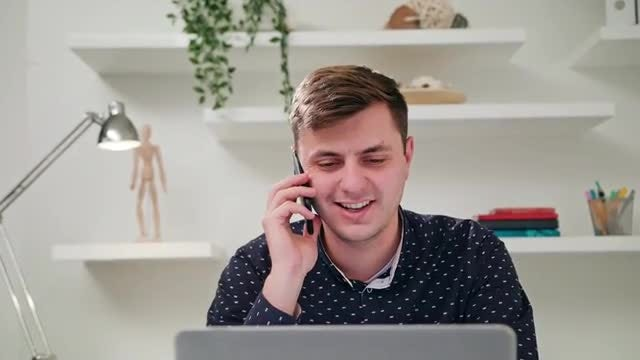phone: (283, 157, 327, 232)
talk: (258, 139, 404, 278)
